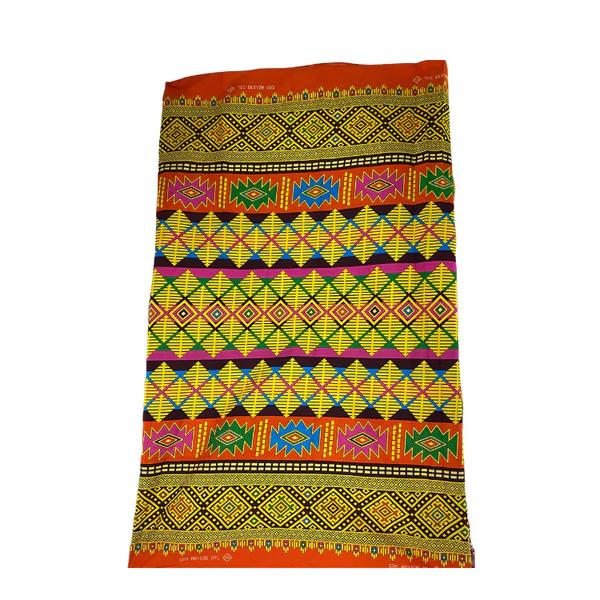malong: (96, 58, 530, 571)
